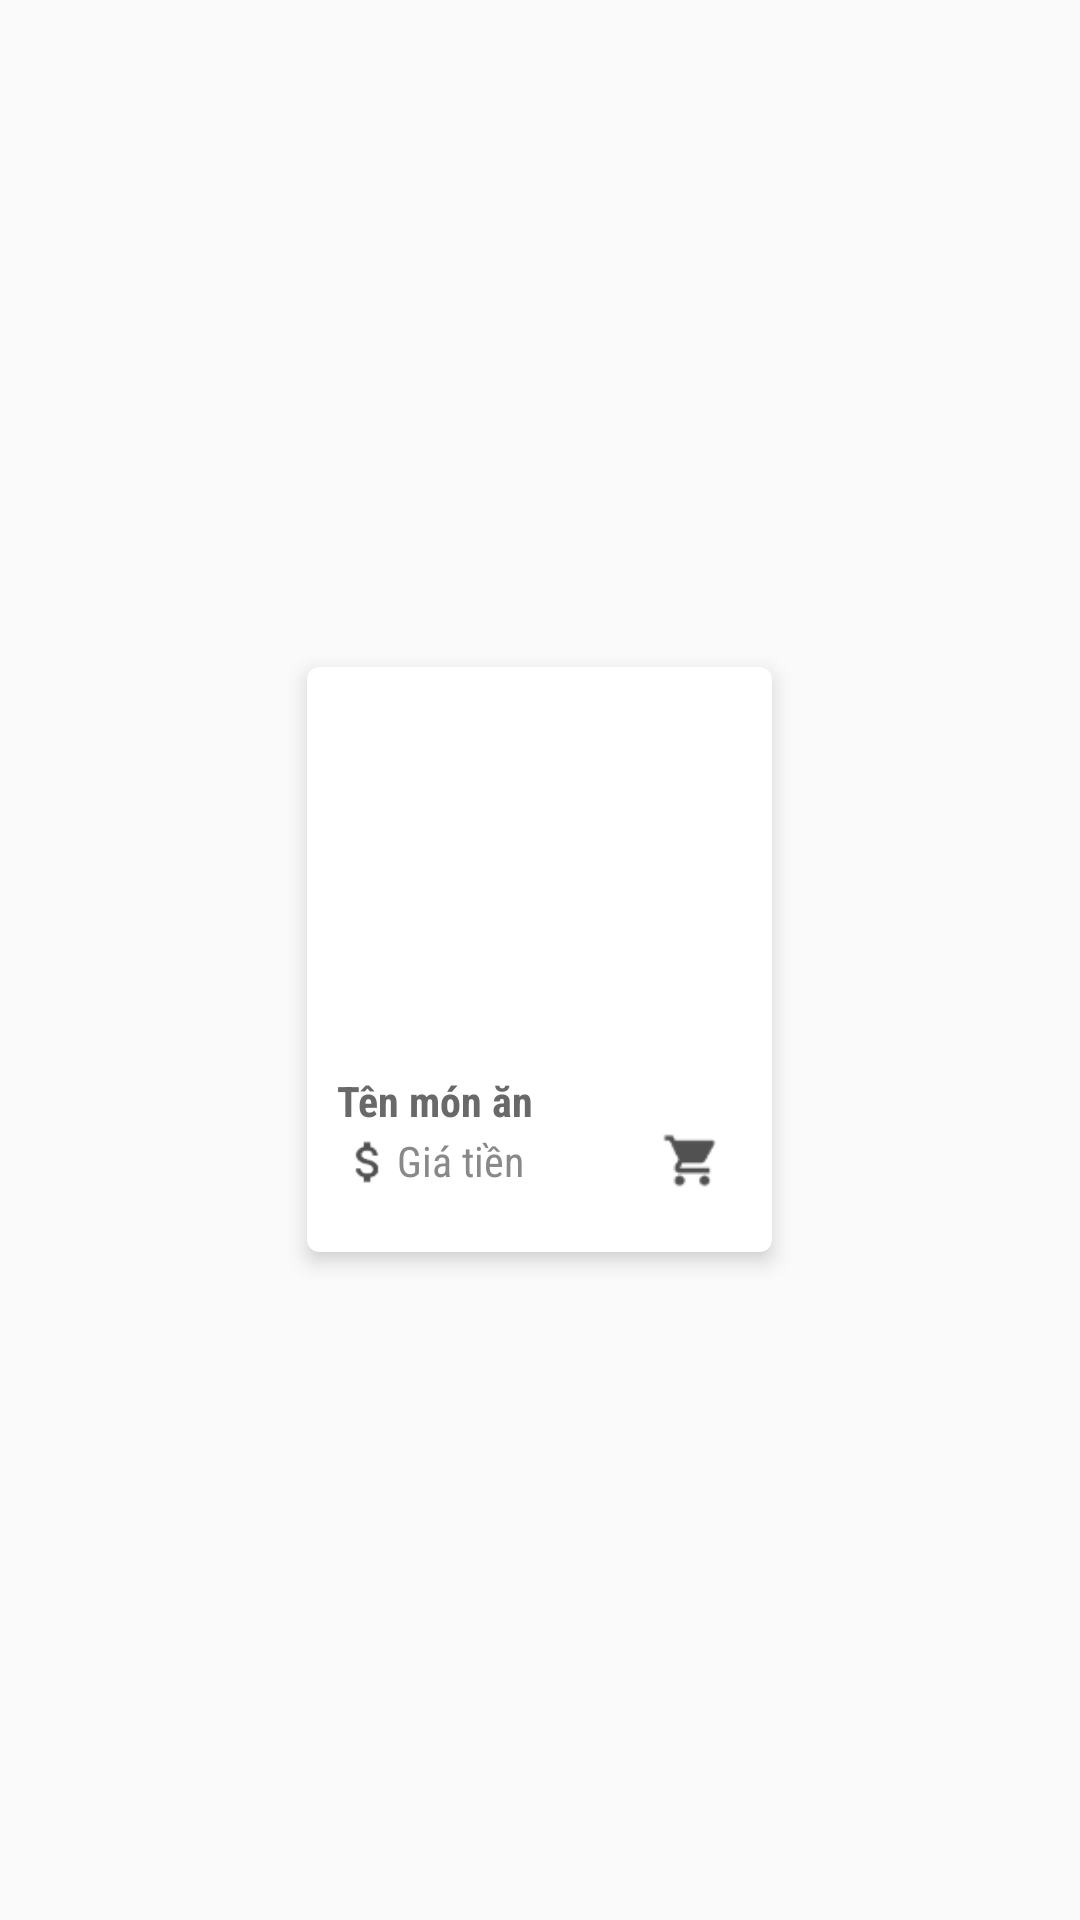

Screen size 1080px x 1920px. Icon name, then its box in pixels as [left=x1, top=y1, right=x2, bottom=y2]:
cart: [left=663, top=1134, right=716, bottom=1187]
money: [left=355, top=1141, right=379, bottom=1183]
